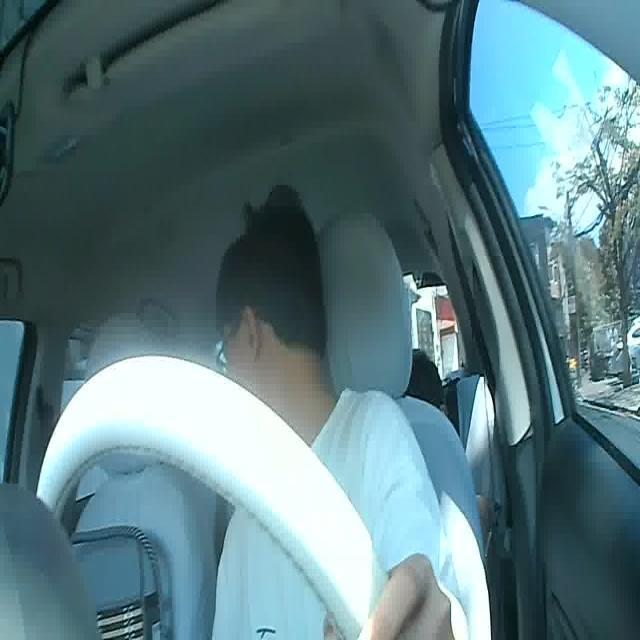Inattentive: (212, 184, 327, 422)
